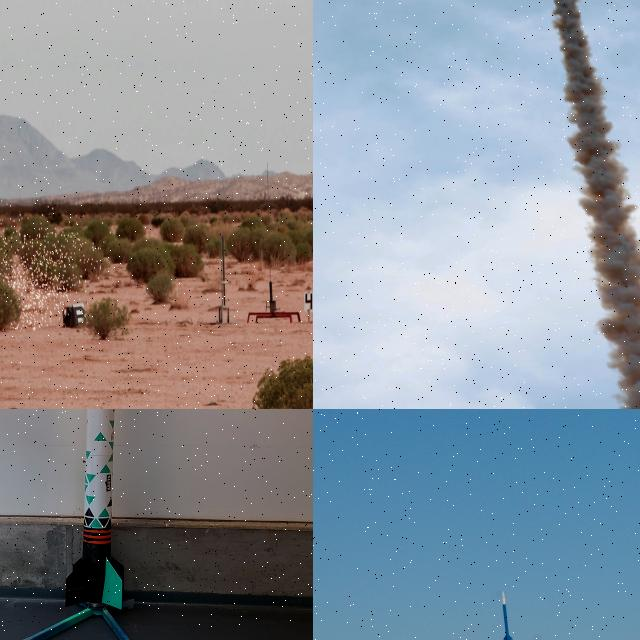Rocket: (66, 409, 125, 611), (500, 591, 513, 640)
